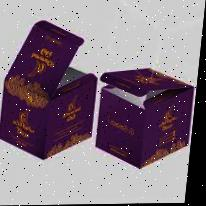cube: (94, 68, 199, 171)
